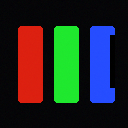4 line_v: (110, 35, 114, 87)
